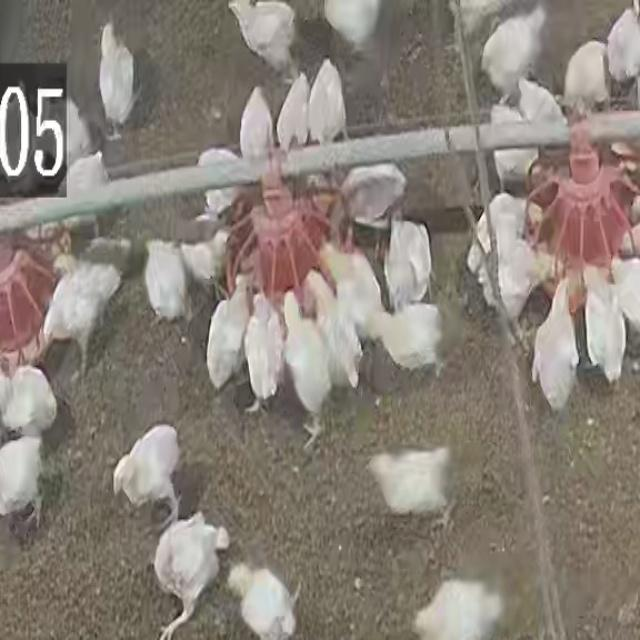chicken: (41, 258, 121, 374), (153, 519, 228, 619), (410, 568, 511, 640), (478, 2, 549, 103), (112, 424, 182, 522), (303, 277, 361, 385), (368, 445, 451, 519), (532, 279, 578, 410), (281, 294, 327, 423), (365, 302, 442, 377), (466, 195, 542, 268), (225, 565, 296, 640), (483, 247, 562, 311), (321, 244, 380, 326), (340, 161, 406, 231), (243, 292, 282, 410), (228, 0, 298, 65), (582, 270, 622, 383), (207, 283, 246, 393), (485, 98, 537, 180), (0, 435, 46, 527), (560, 38, 615, 114), (96, 25, 134, 131), (385, 218, 431, 305), (142, 238, 188, 324), (179, 226, 235, 290), (0, 370, 58, 428), (66, 152, 109, 226), (311, 60, 347, 146), (606, 5, 640, 84), (239, 87, 273, 160), (327, 0, 374, 52), (278, 73, 310, 149), (452, 1, 505, 44), (517, 77, 558, 125)
